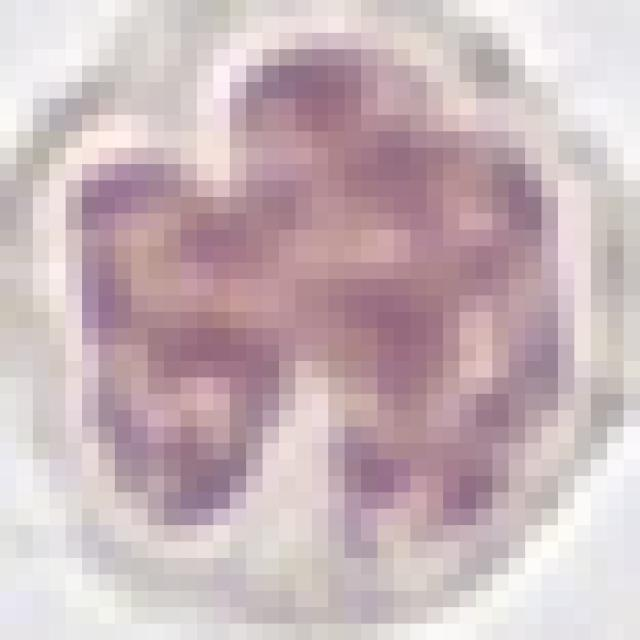cytoplasm: (3, 0, 624, 624)
nucleus: (65, 23, 588, 575)
